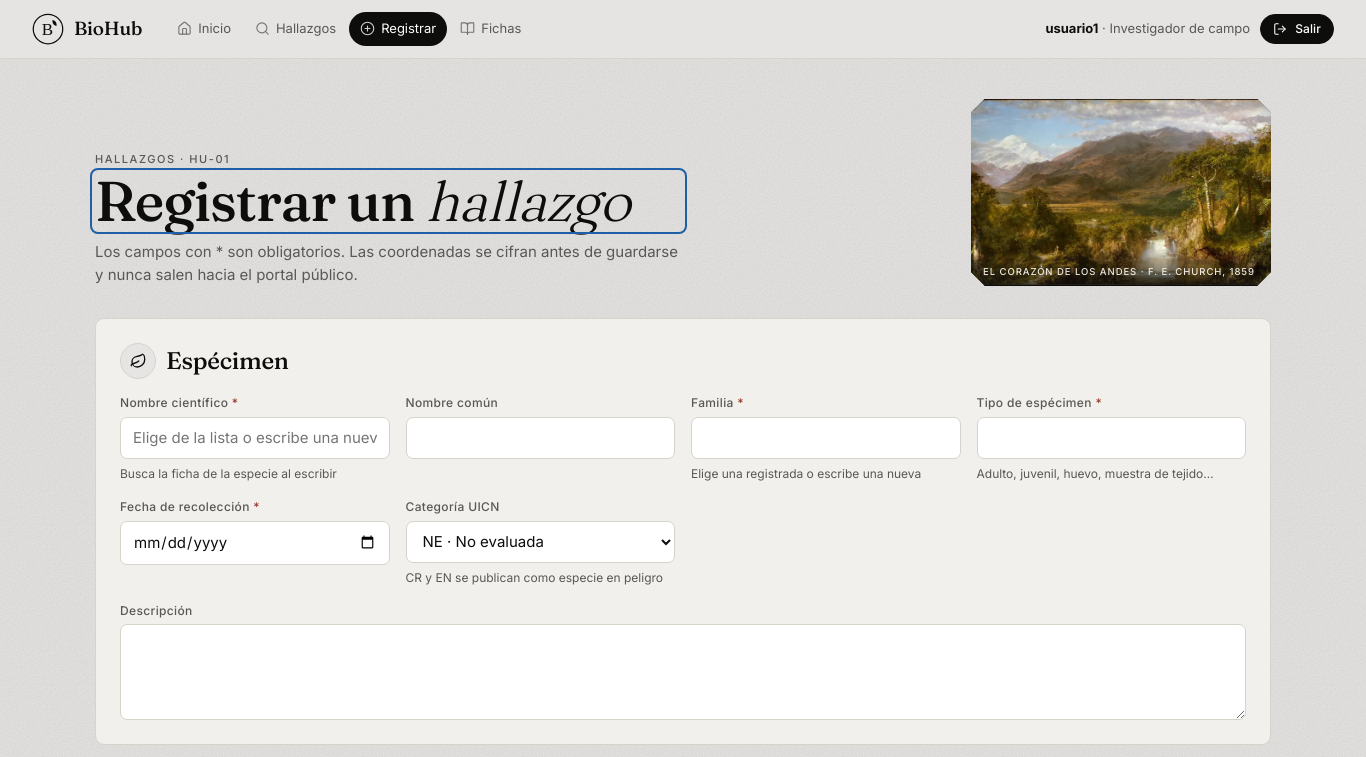
it: Registrar hallazgo (HU-01) › muestra junto a cada campo los errores que devuelve el servidor
In the field labelled "Nombre científico *": (255,438) [120,417,390,459], type "Oophaga histrionica"
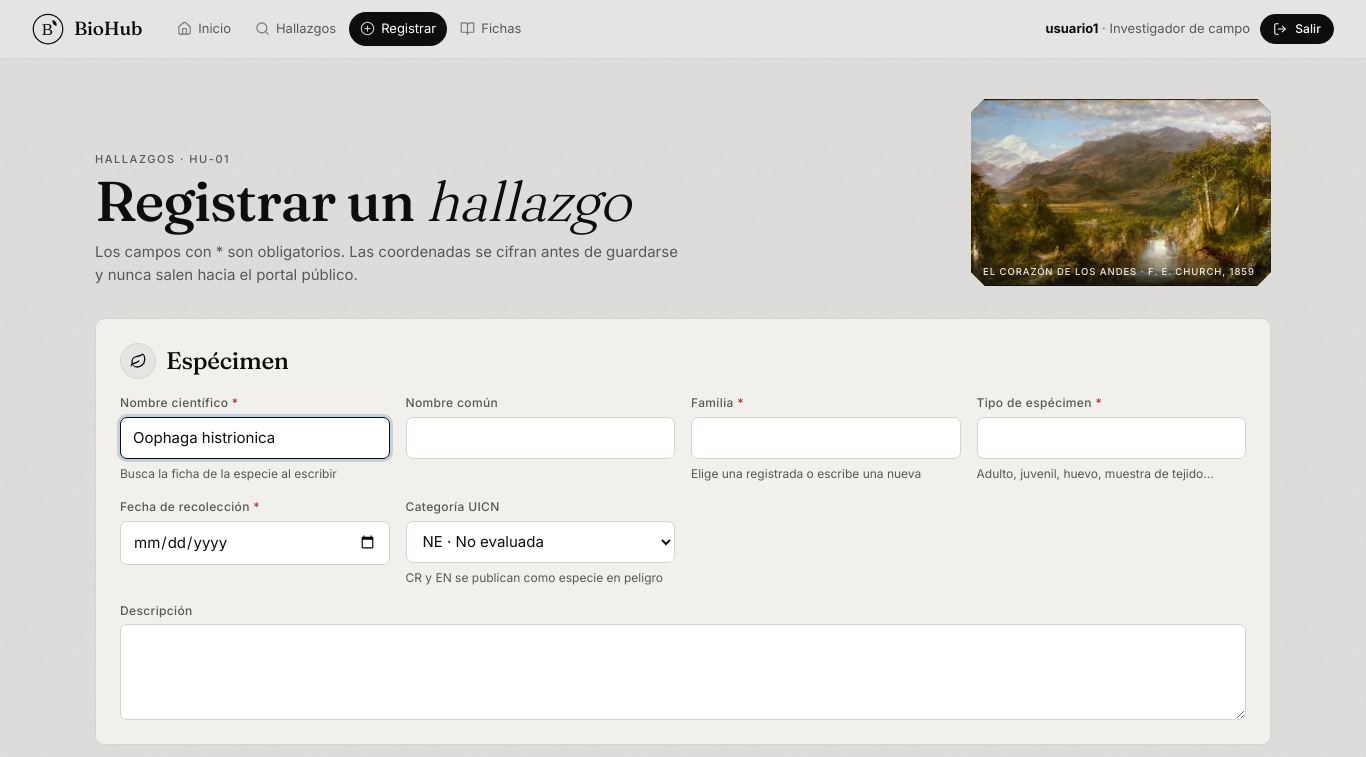
In the field labelled "Familia *": (826,438) [691,417,960,459], type "Dendrobatidae"
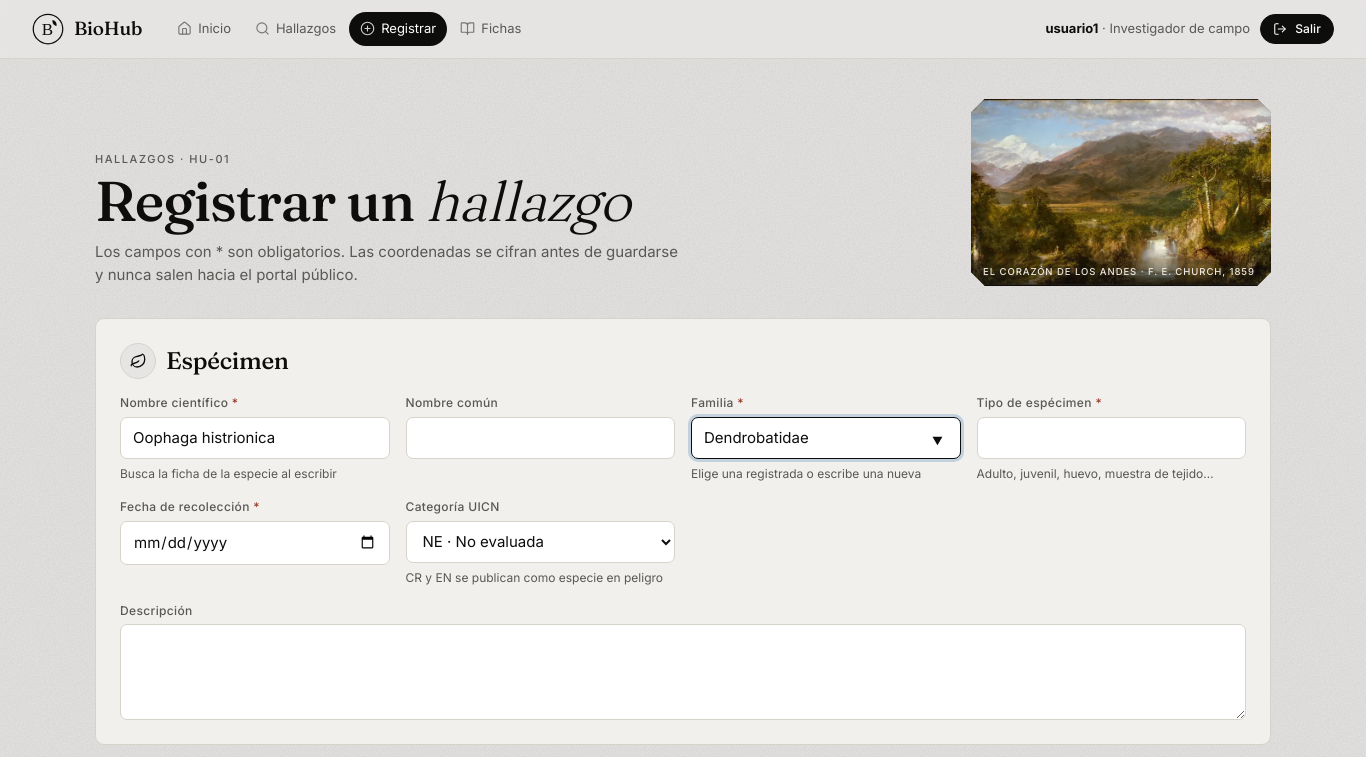
In the field labelled "Tipo de espécimen *": (1111,438) [976,417,1246,459], type "Adulto"
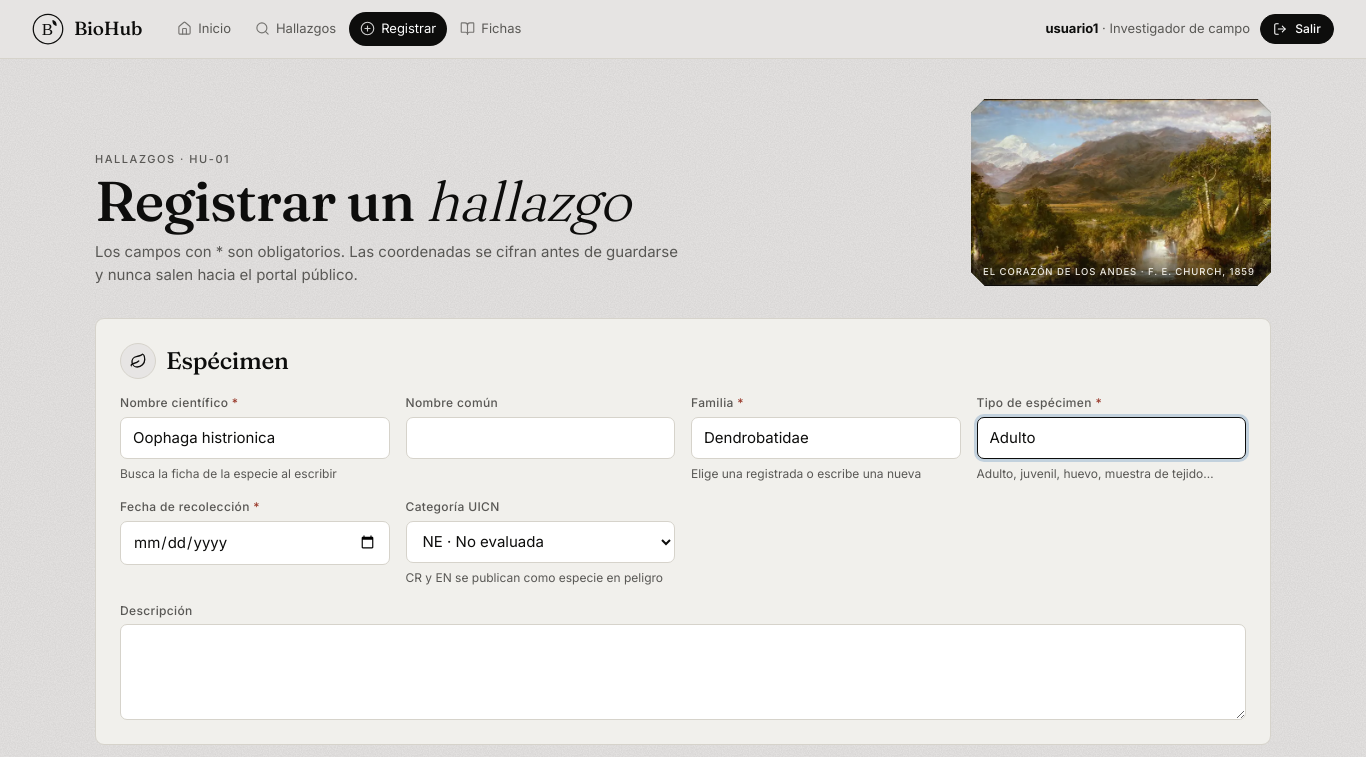
In the date field labelled "Fecha de recolección *": (255,543) [120,521,390,565], type "2026-10-02"
(page scrolled)
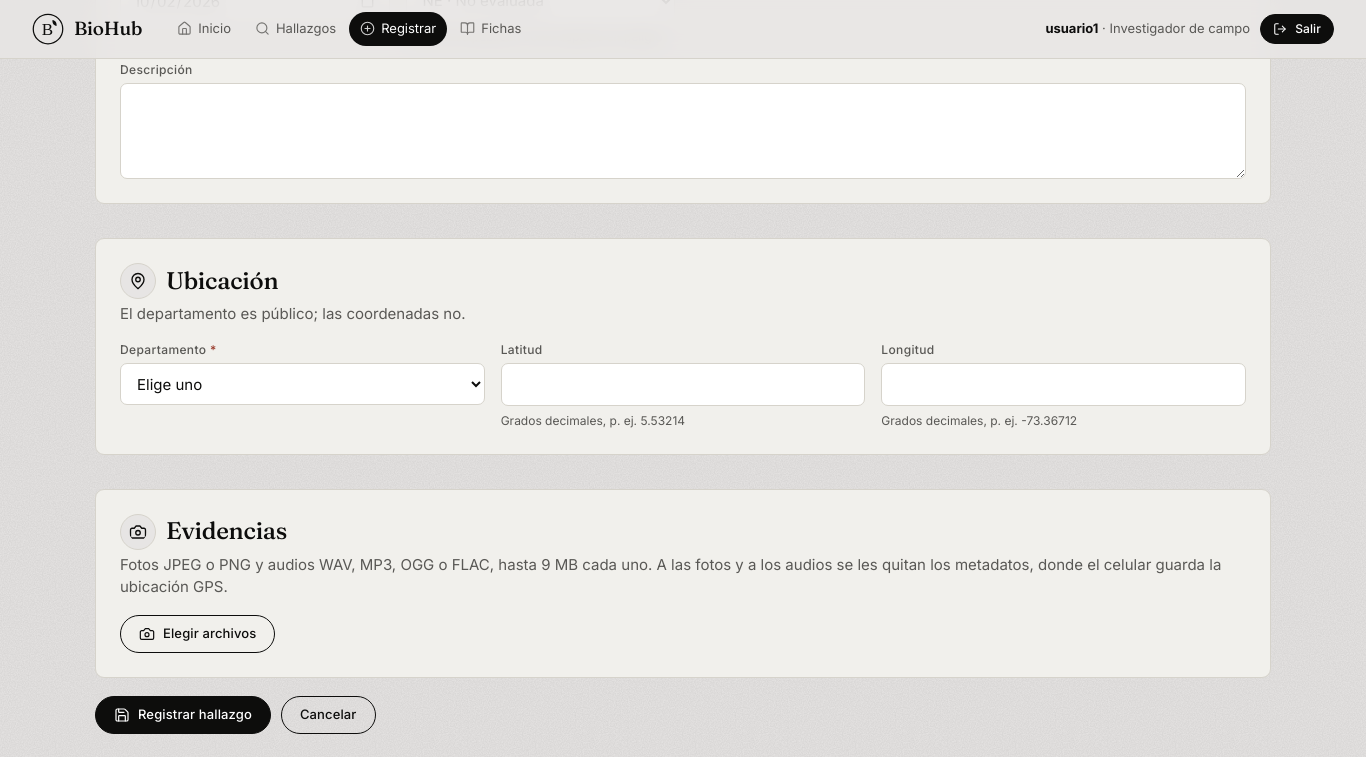
Select "Chocó" in the dropdown labelled "Departamento *": (302,384) [120,363,485,405]
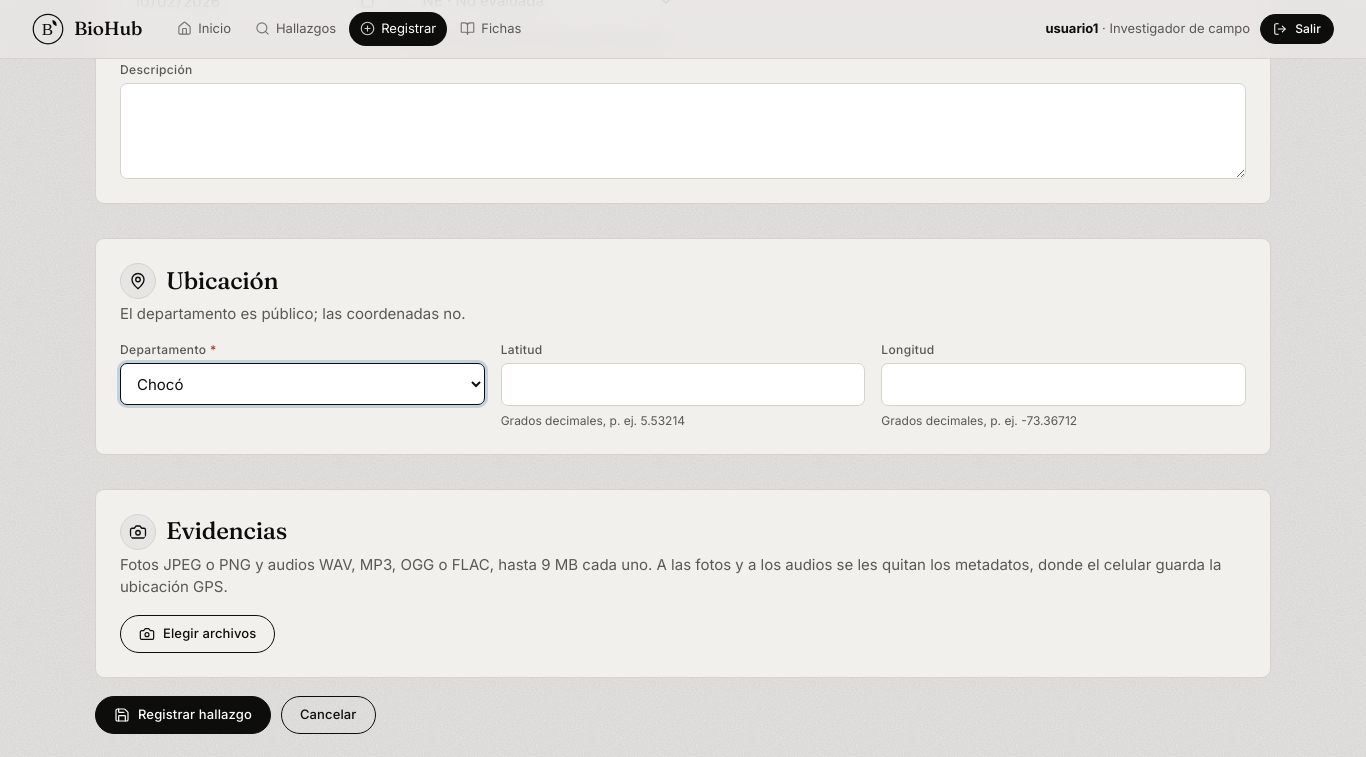
Click the button "Registrar hallazgo": (183,715) [95,696,271,734]
(page scrolled)
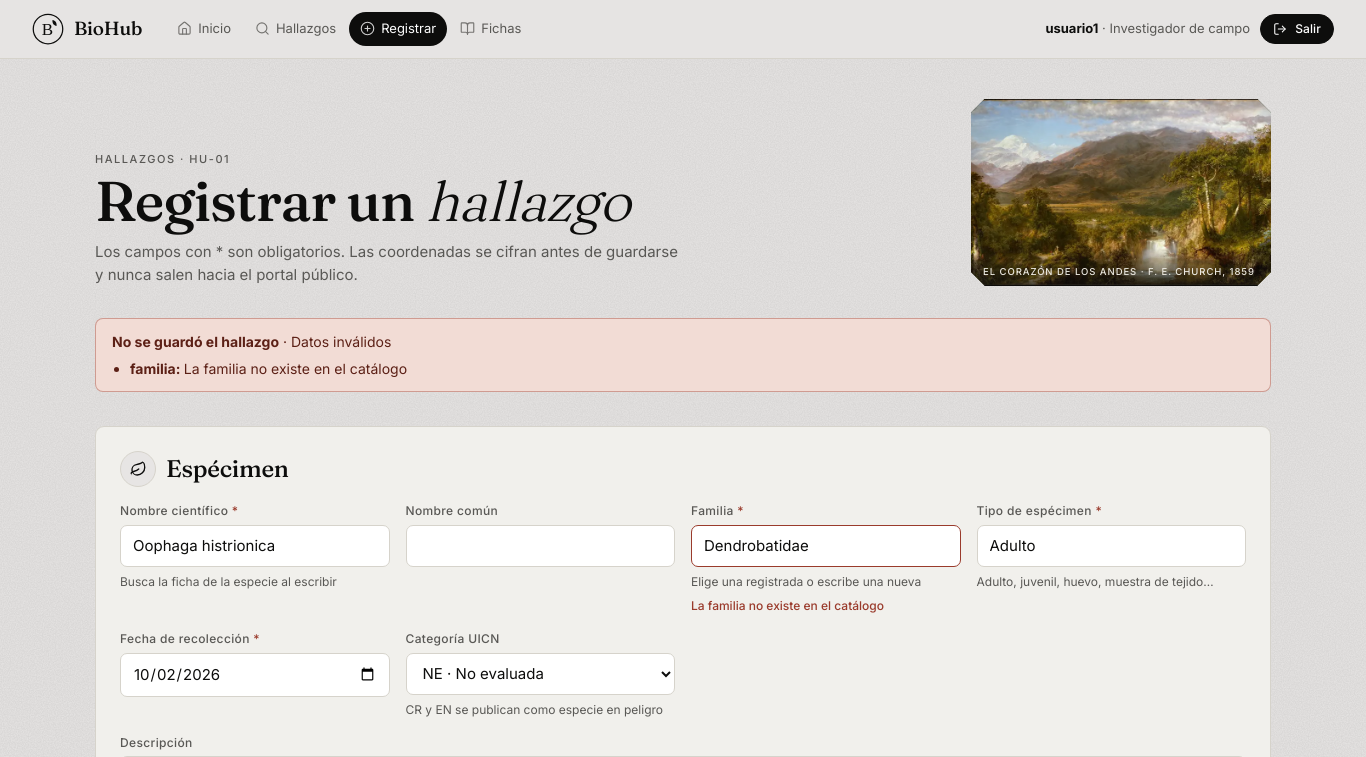
expect the message shows "No se guardó el hallazgo": met, box [112,333,279,350]
